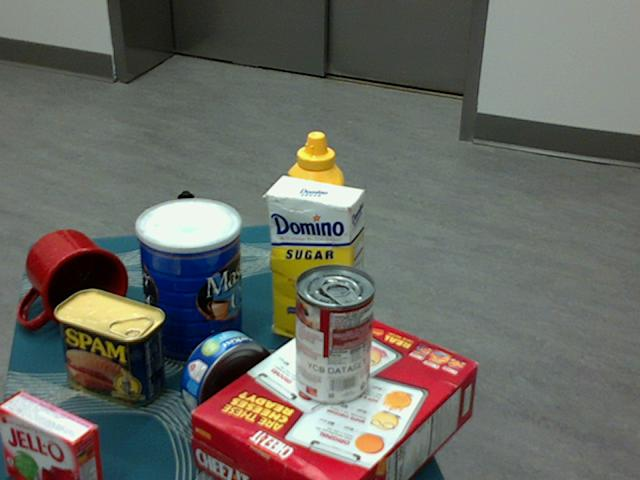cracker_box: (191, 307, 478, 479)
gelatin_box: (0, 388, 101, 479)
large_marker: (178, 190, 197, 287)
master_chef_can: (134, 198, 241, 366)
mug: (20, 229, 127, 329)
mustard_bottle: (285, 131, 341, 307)
potted_meat_can: (53, 287, 164, 405)
sugar_box: (266, 174, 364, 354)
tomato_soup_can: (293, 265, 374, 406)
tuna_fish_can: (180, 330, 274, 428)
